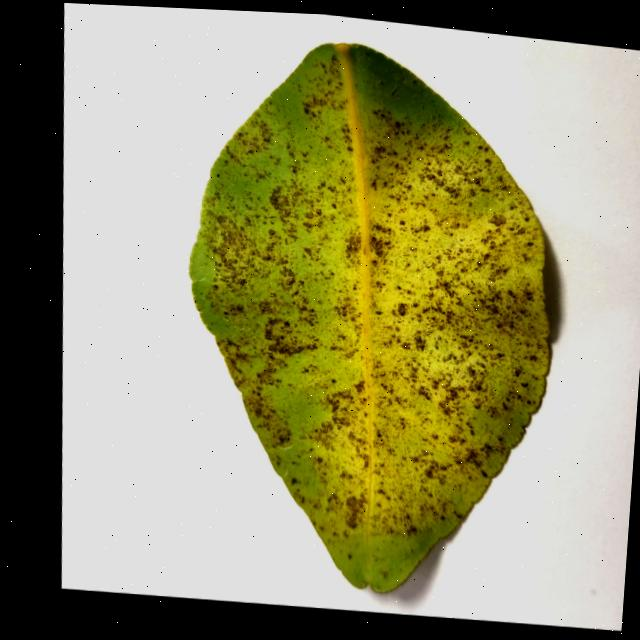melanose: (190, 43, 549, 591)
